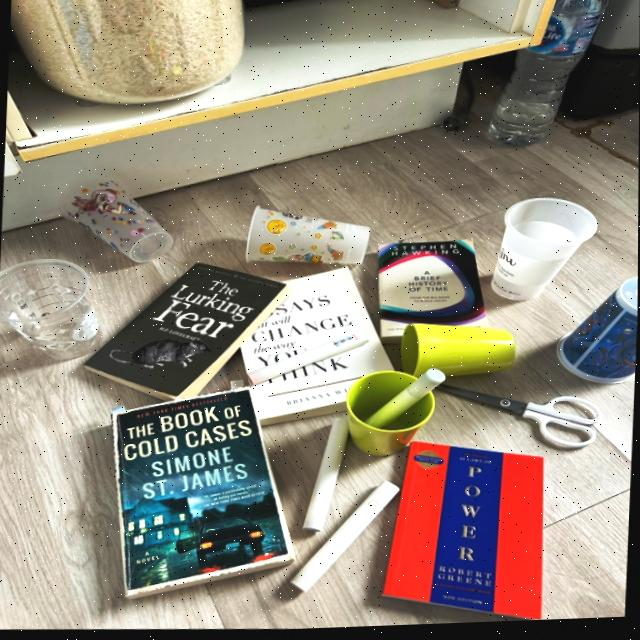Book: (112, 391, 293, 589), (384, 445, 543, 622), (86, 265, 287, 401), (240, 269, 395, 427), (378, 244, 488, 346)
HighLight Pen: (291, 484, 400, 594), (249, 334, 368, 386), (304, 418, 349, 533), (370, 372, 444, 430)
Plastic Cup: (491, 202, 597, 304), (0, 260, 99, 358), (63, 181, 173, 263), (557, 281, 638, 388), (246, 208, 369, 268)
Scissors: (440, 388, 602, 451)
WaterGlass: (346, 373, 438, 459), (402, 327, 515, 380)
